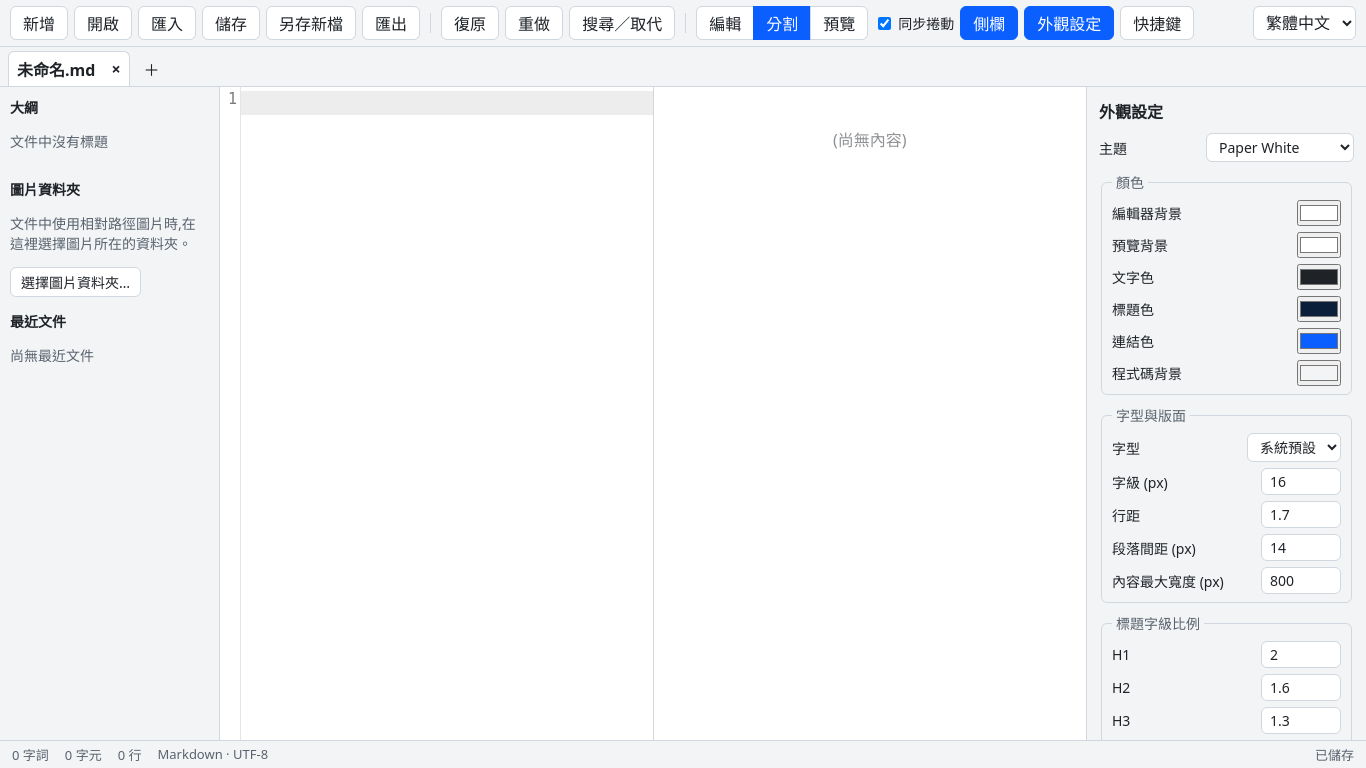
Test: export dialog › lists every supported format and no placeholder entries
The width and height of the screenshot is (1366, 768).
Step 1. Click the button "匯出" → (391, 23), box [362, 6, 420, 40]
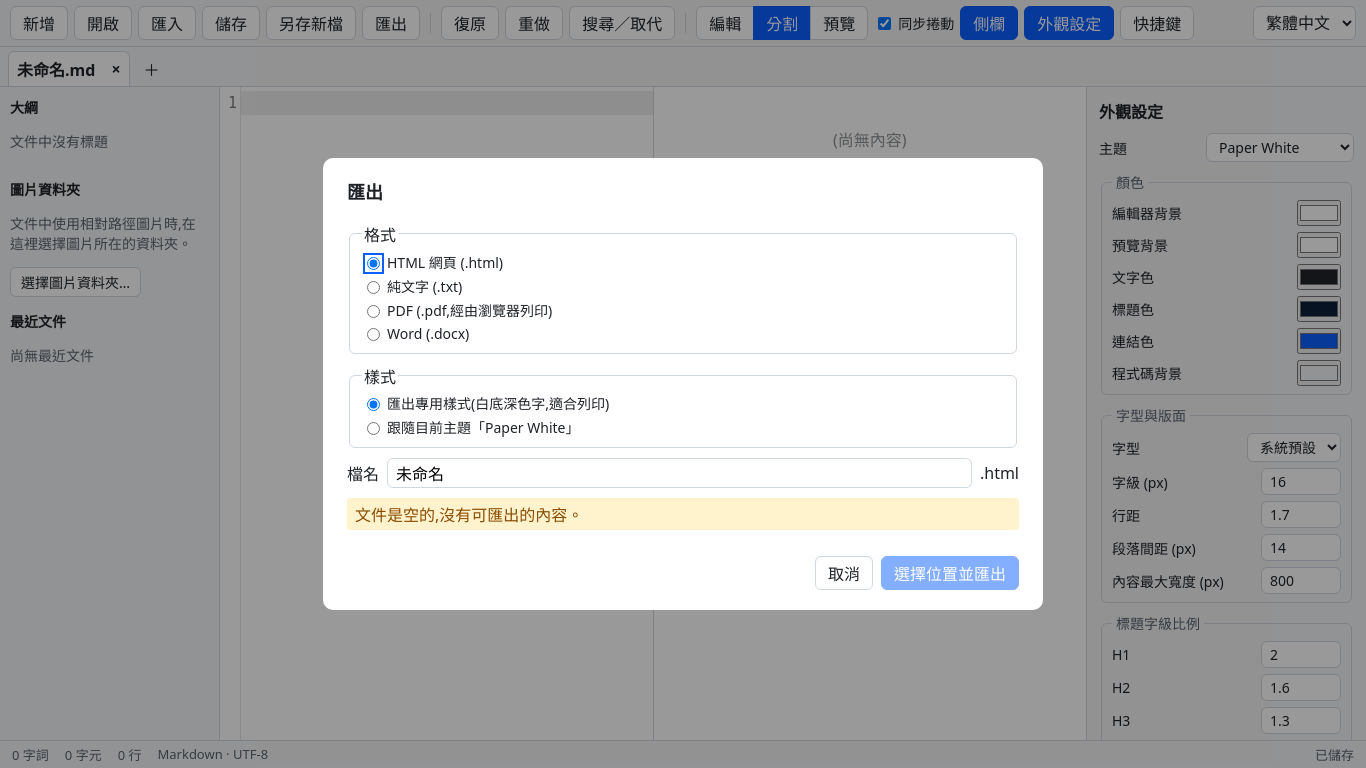
Expected: the dialog is shown, [323, 158, 1043, 610]
Expected: the radio button labelled "HTML 網頁 (.html)" is enabled, [367, 256, 380, 270]
Expected: the radio button labelled "純文字 (.txt)" is enabled, [367, 280, 380, 294]
